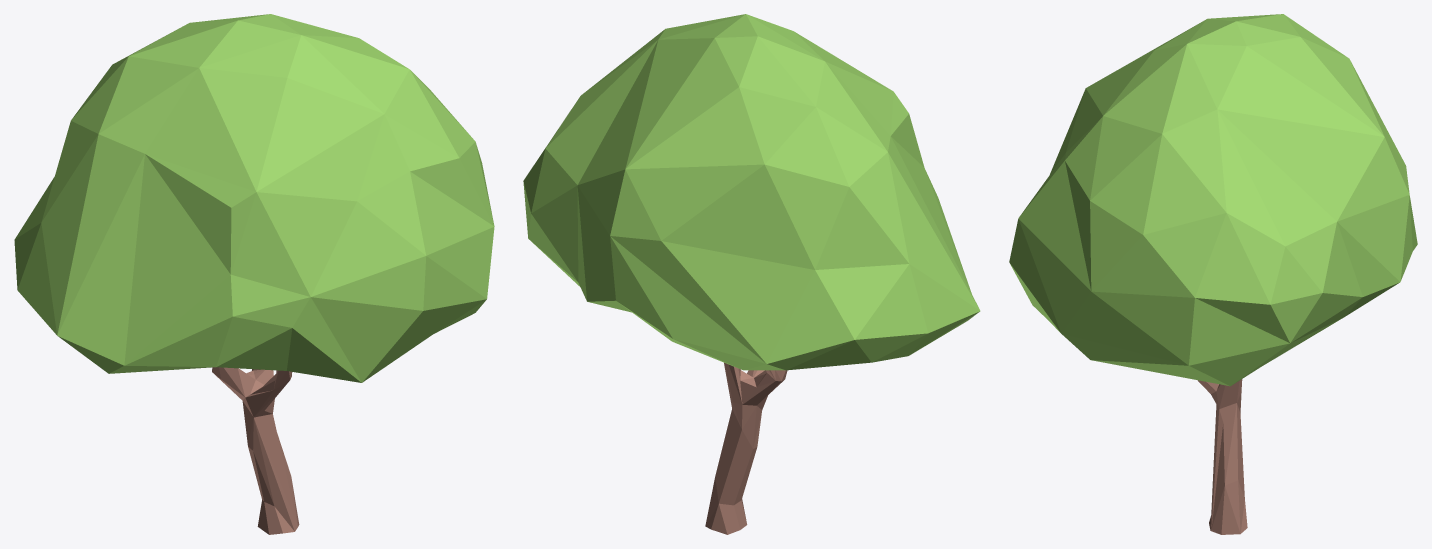
Rendered from tree-round.glb.
3 renders of one model, left to right at view 1: azimuth 30°, elevation 25°; view 2: azimuth 150°, elevation 25°; view 3: azimuth 270°, elevation 25°, orthographic. The views are drawn at different scales.
Visible parts, largest first — view 1: leaves, trunk; view 2: leaves, trunk; view 3: leaves, trunk.
Part boxes in pixels (<box>): leaves: <box>14,14,494,382</box>; trunk: <box>212,367,299,534</box>; leaves: <box>523,14,980,370</box>; trunk: <box>705,362,787,534</box>; leaves: <box>1009,14,1417,386</box>; trunk: <box>1198,379,1247,534</box>.
Bounding box in the file's own units: 7.01 × 7.99 × 6.04.
